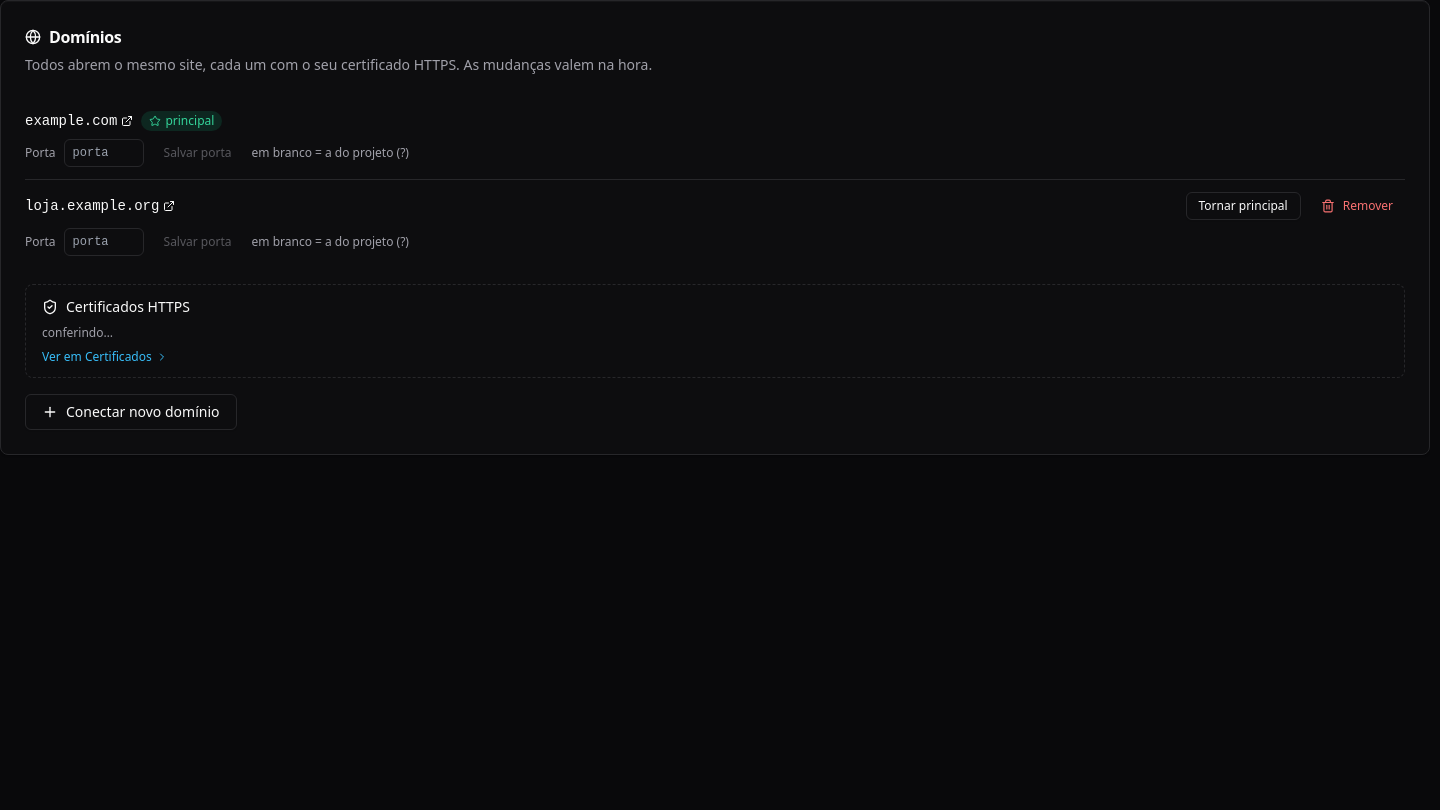
Scenario: ProjectDomainsCard — conectar um domínio novo › resposta antiga do servidor (sem 'state'): a mensagem de sempre continua aparecendo
Click the button "Conectar novo domínio": (131, 412) [25, 394, 236, 430]
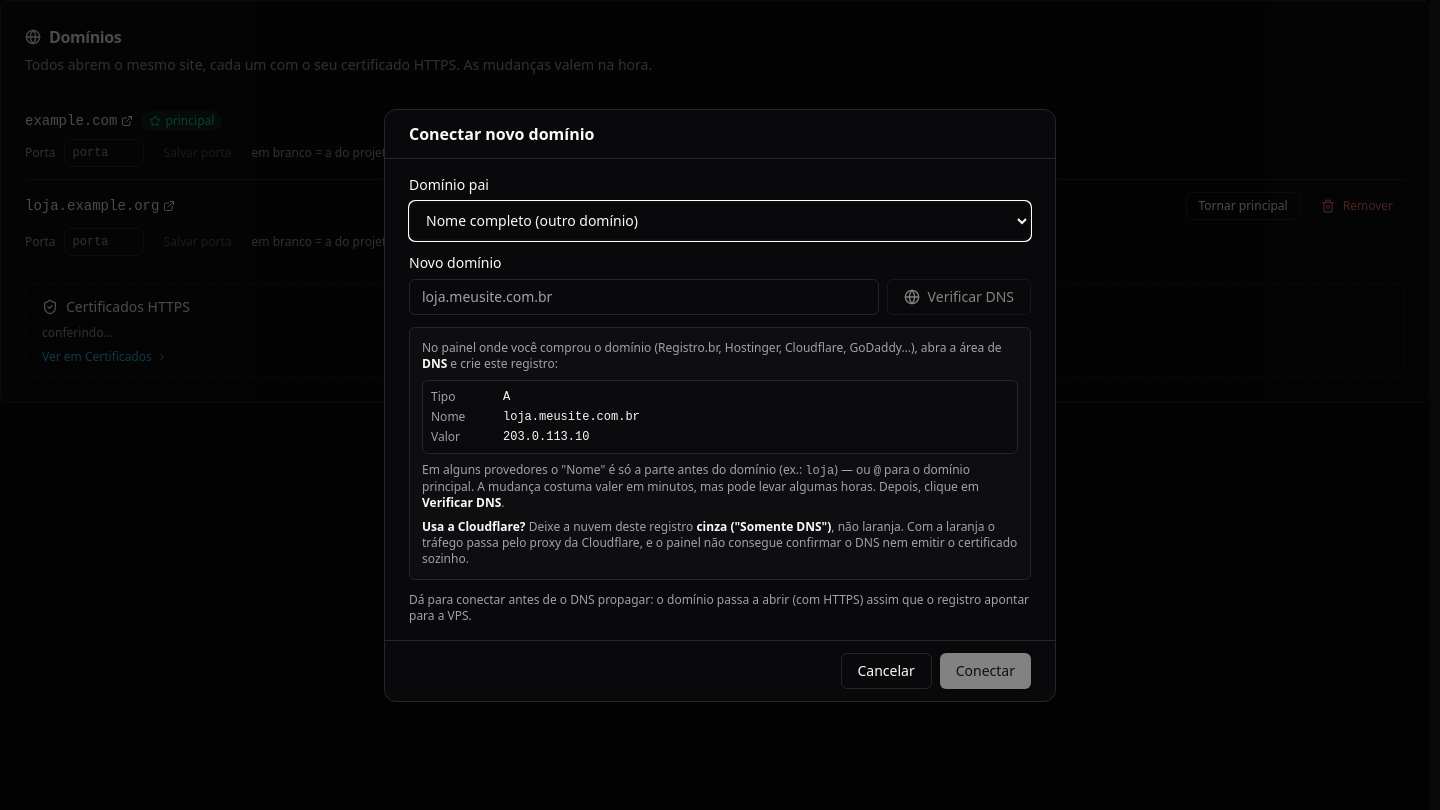
In the field labelled "Novo domínio Verificar DNS": (644, 296) [409, 278, 879, 314], type "app.example.net"
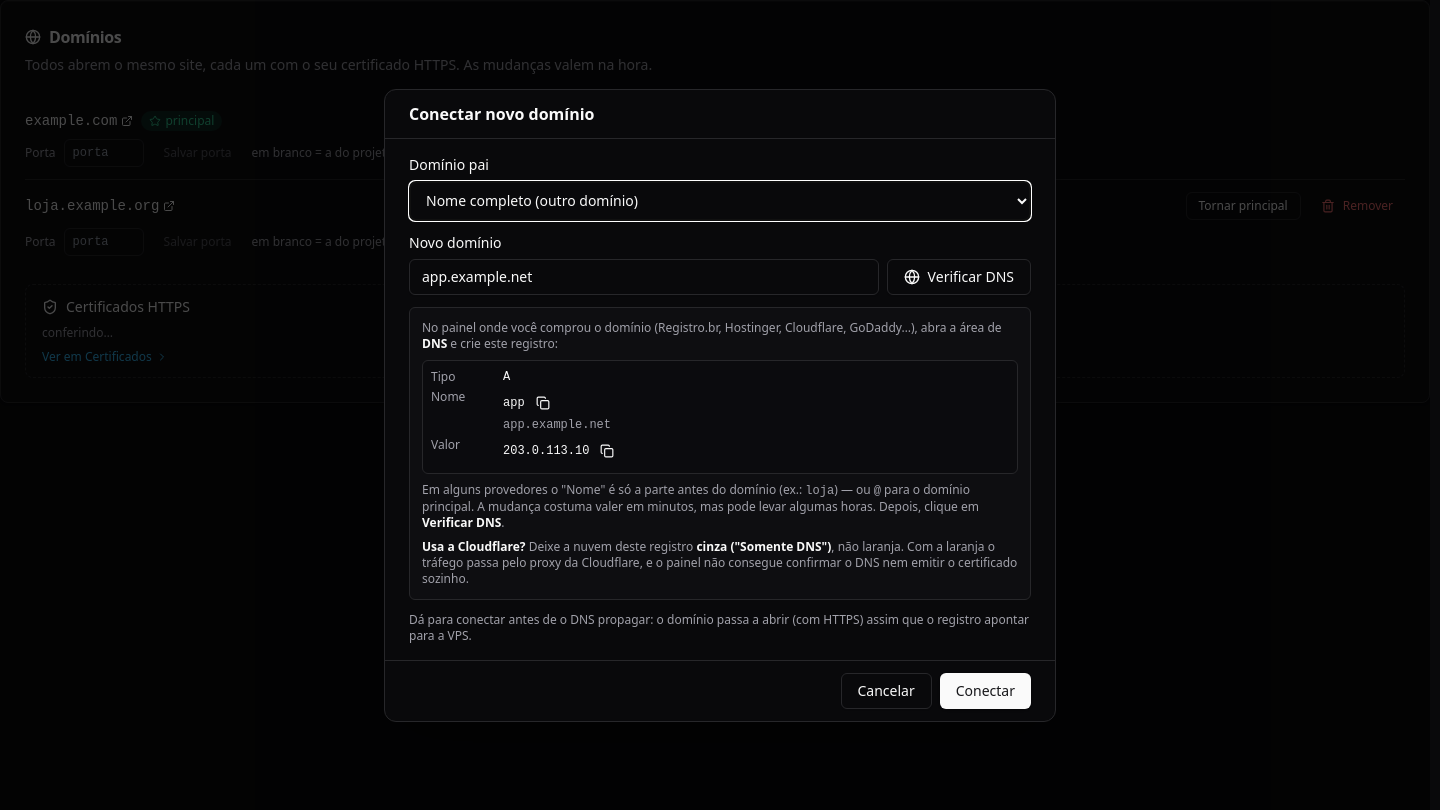
Click the button "Verificar DNS": (959, 276) [887, 258, 1031, 294]
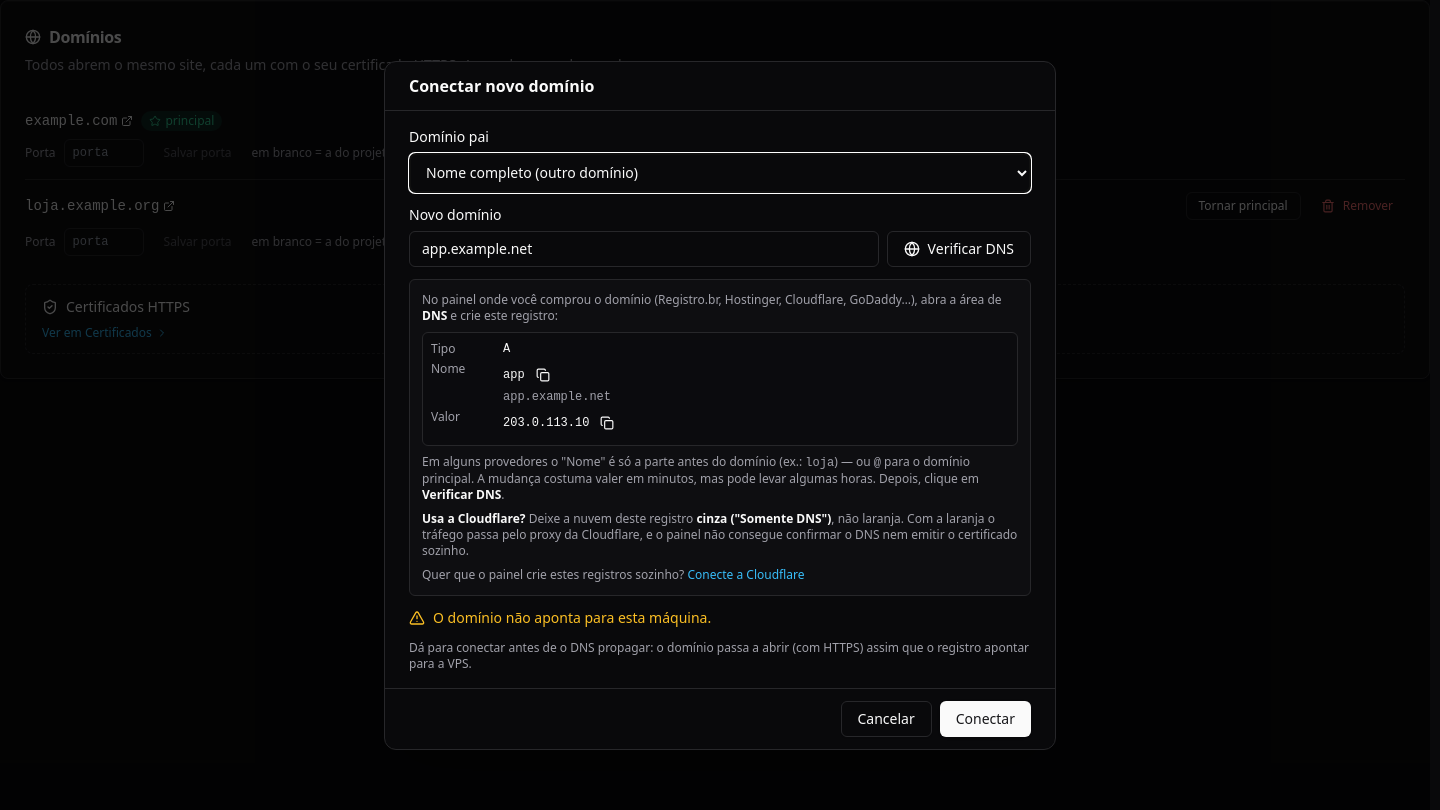
Result: the text "O domínio não aponta para esta máquina." is shown at [409, 608, 711, 626]
